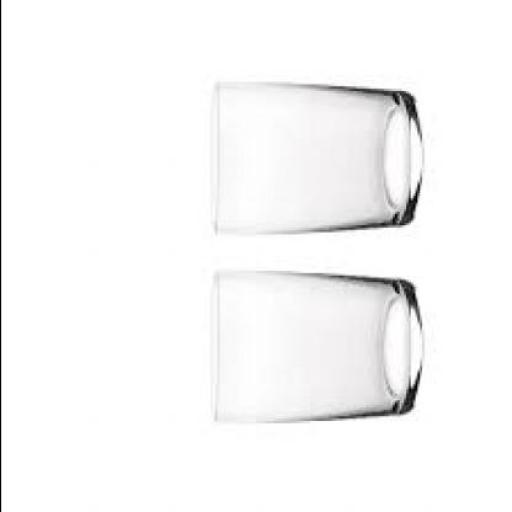glass: (210, 272, 418, 428), (209, 86, 421, 239)
